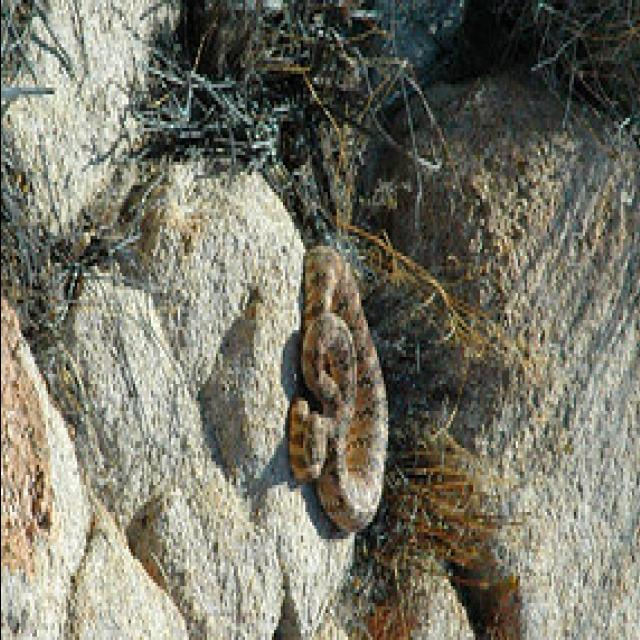snake: (286, 240, 392, 536)
